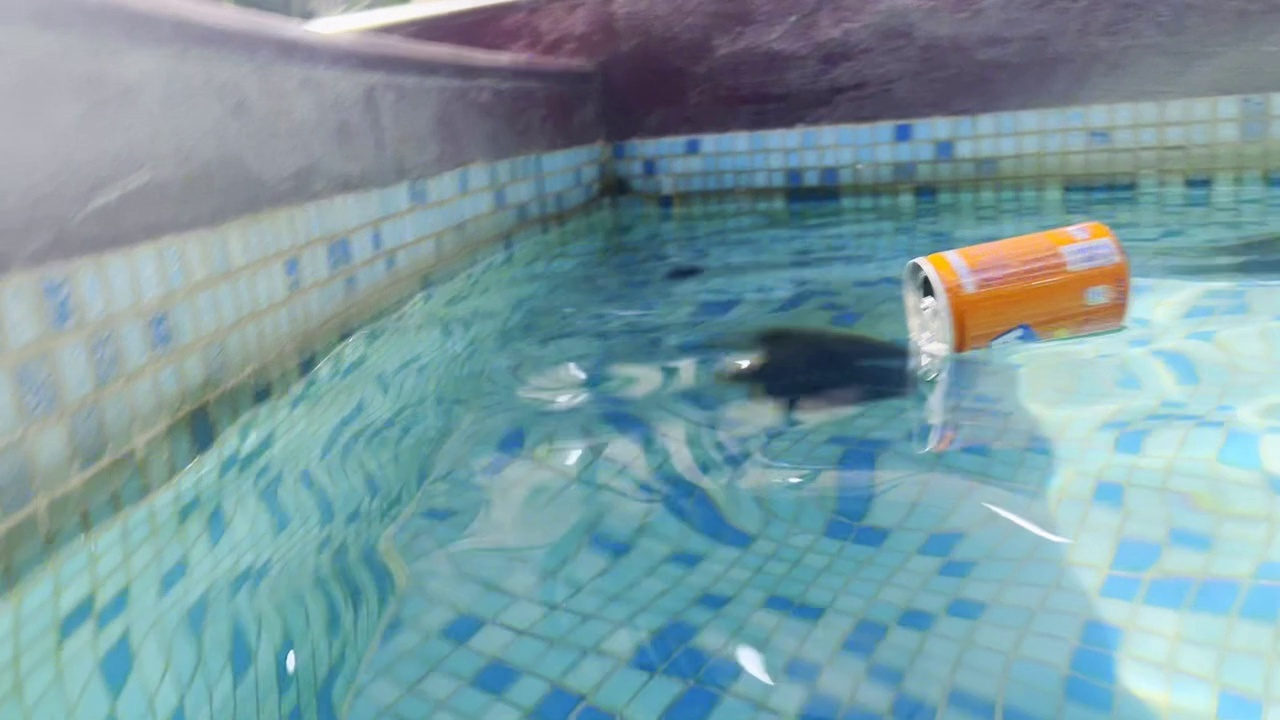debris: (889, 219, 1147, 365)
